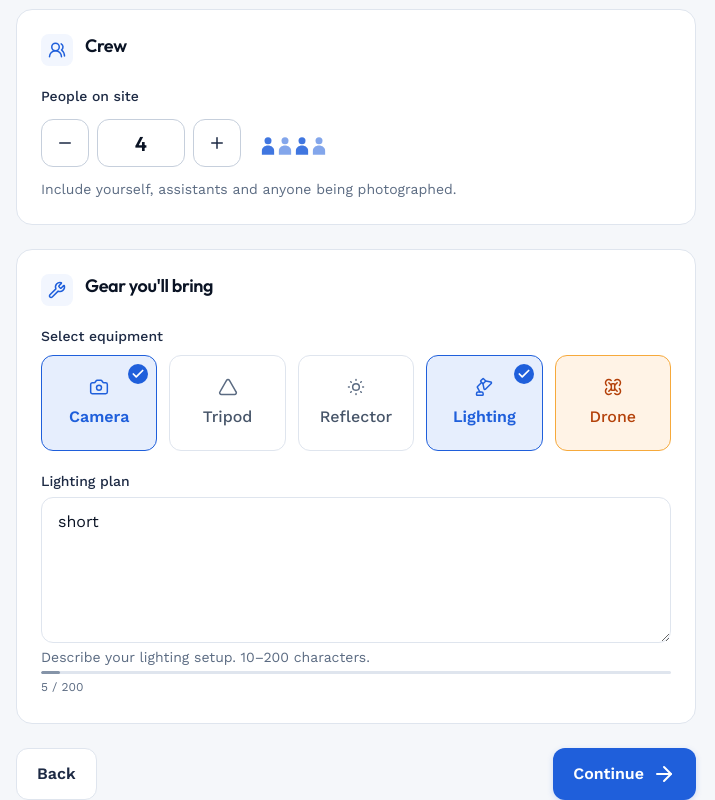
Test: CrewEquipmentScreen › validates and focuses lighting notes only when Lighting is selected
(page scrolled)
What coordinates should you click on to do the following:
click the button "Continue"
I would click on:
 (625, 774)
Its box is [553,748,696,799].
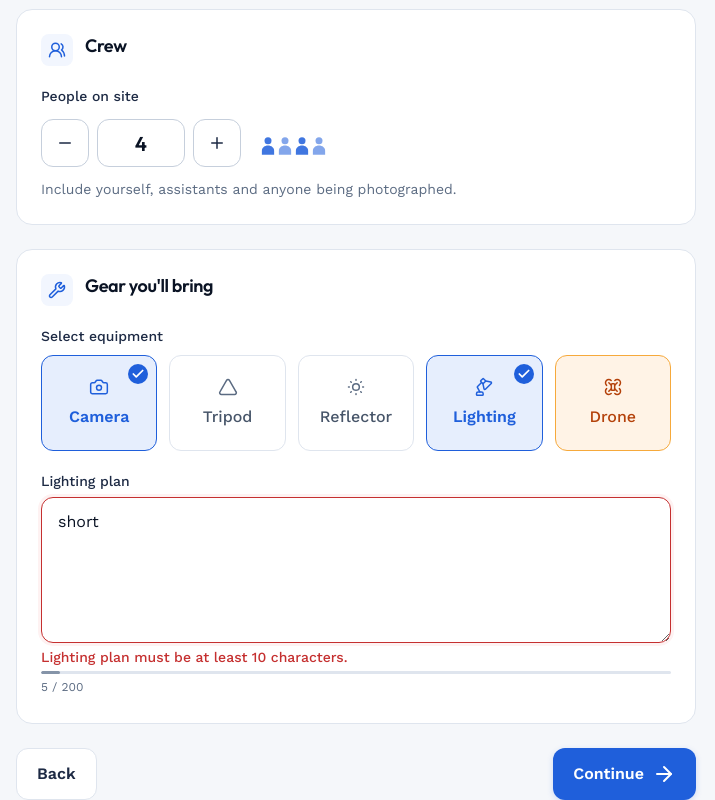
Expected: the message reads "Lighting plan must be at least 10 characters.", [41,649,348,665]
